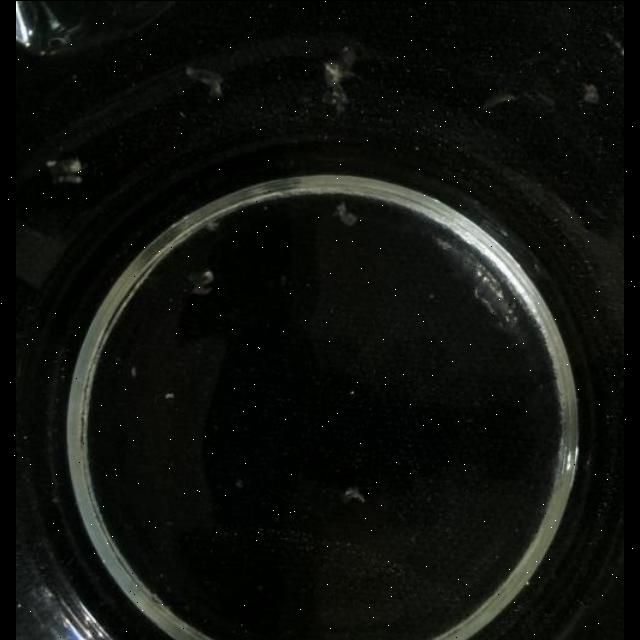Fibre: (322, 52, 356, 110), (186, 64, 224, 96), (44, 155, 84, 183), (482, 90, 520, 112), (189, 268, 215, 294), (335, 198, 359, 224), (340, 484, 366, 504), (582, 82, 600, 104), (204, 216, 222, 232)
microbeads: (602, 30, 624, 60), (234, 478, 244, 488)
